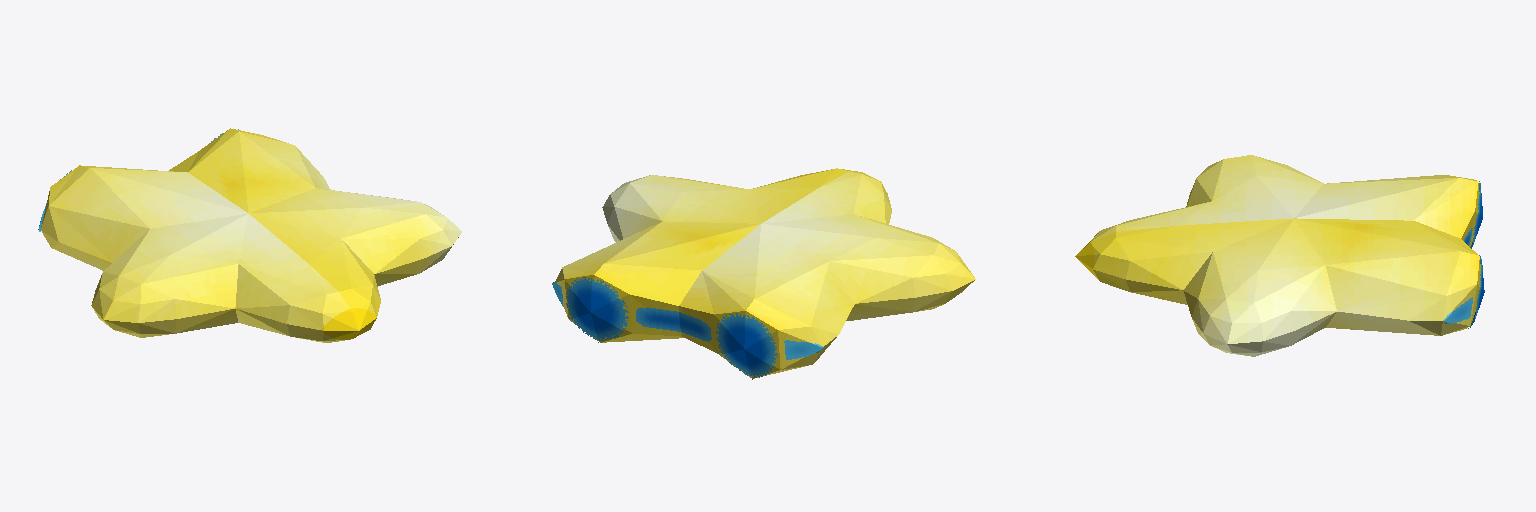
3 views of the same model, side by side, from view 1: azimuth 30°, elevation 25°; view 2: azimuth 150°, elevation 25°; view 3: azimuth 270°, elevation 25° (orthographic).
Size of the model in its own units: 47.47 by 10.32 by 46.66.
2 materials, 2 textured.